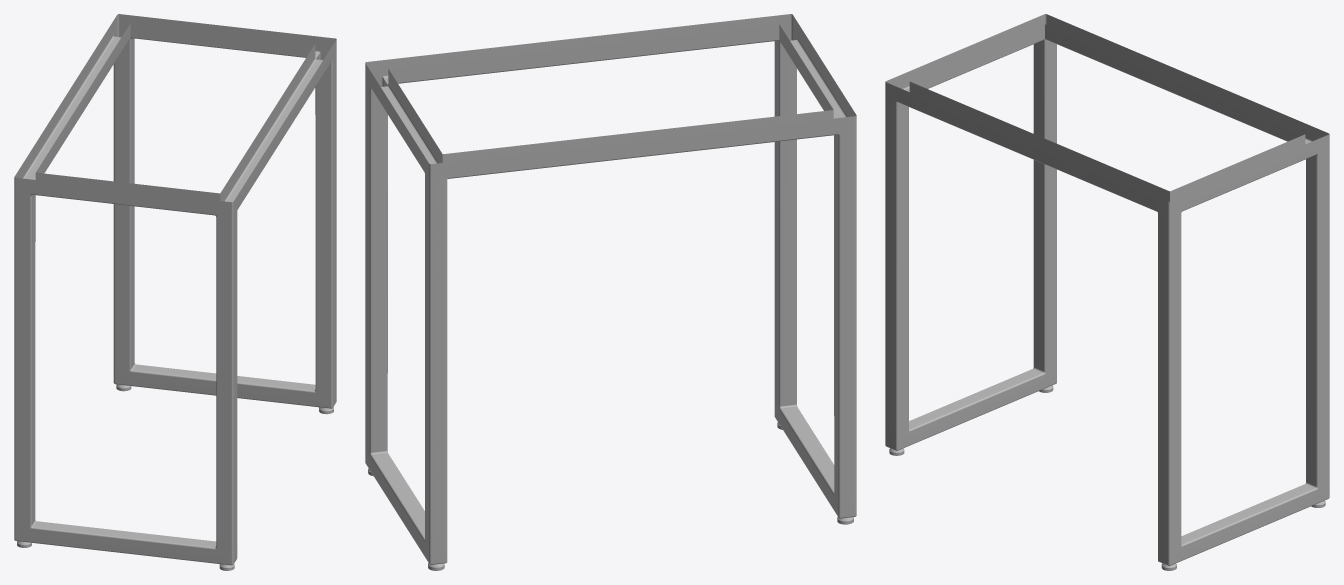
Rendered from diningtable_0101_leg_rectagle.glb.
3 renders of one model, left to right at view 1: azimuth 30°, elevation 25°; view 2: azimuth 150°, elevation 25°; view 3: azimuth 270°, elevation 25°, orthographic. The views are drawn at different scales.
Parts seen in each view (by area): view 1: diningtable_0101_leg_rectagle; view 2: diningtable_0101_leg_rectagle; view 3: diningtable_0101_leg_rectagle.
Boxes of the visible parts, x1,y1,x2,y2 form: diningtable_0101_leg_rectagle: (14, 14, 336, 570); diningtable_0101_leg_rectagle: (365, 14, 856, 570); diningtable_0101_leg_rectagle: (885, 14, 1329, 570).
Size of the model in its own units: 1.03 by 0.9468 by 1.03.
Materials: 1 (1 with a texture image).
